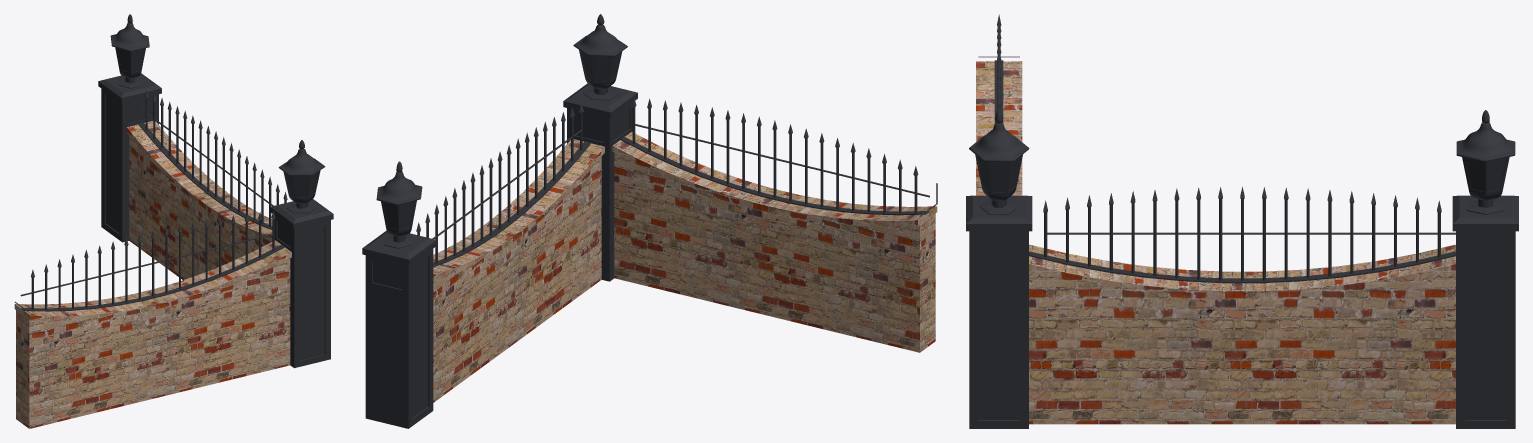
Rendered from cerca2.obj.
The picture shows the model from 3 angles, left to right: view 1: azimuth 30°, elevation 25°; view 2: azimuth 150°, elevation 25°; view 3: azimuth 270°, elevation 25°; orthographic projection. The views are drawn at different scales.
Visible parts, largest first — view 1: cerca; view 2: cerca; view 3: cerca.
Boxes of the visible parts, x1,y1,x2,y2 form: cerca: (14, 14, 333, 428); cerca: (362, 14, 937, 428); cerca: (966, 14, 1518, 428).
Bounding box in the file's own units: 247 × 169 × 277.
Materials: 2 (1 with a texture image).
